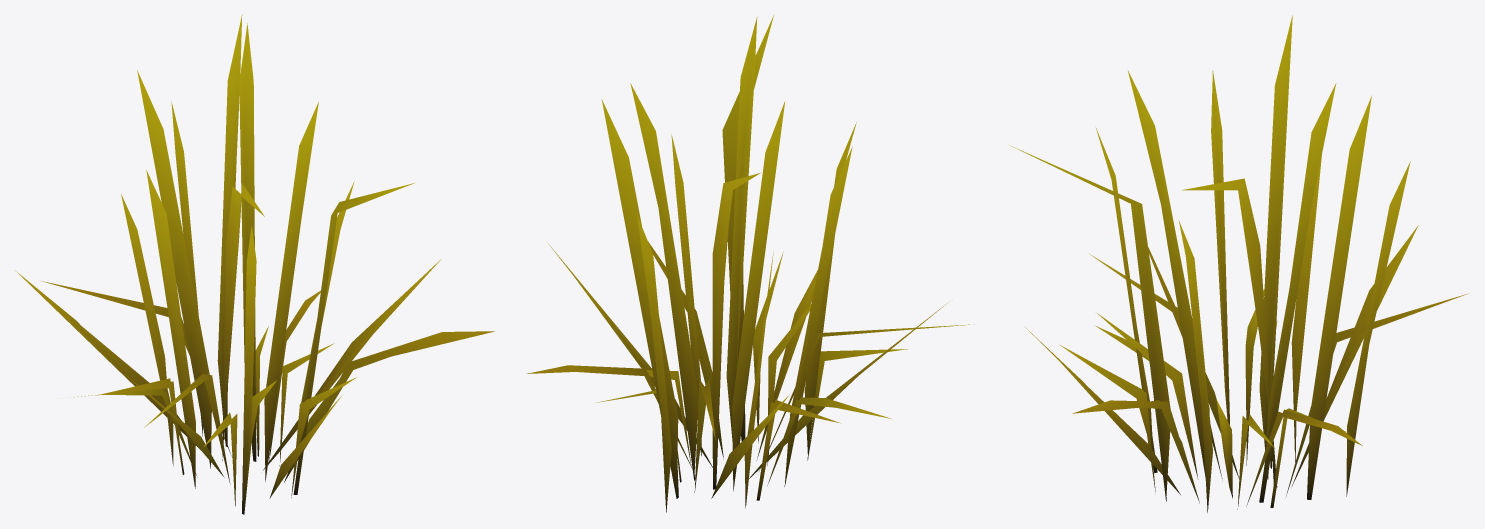
File: Grass_Wispy_Tall.glb
3 renders of one model, left to right at view 1: azimuth 30°, elevation 25°; view 2: azimuth 150°, elevation 25°; view 3: azimuth 270°, elevation 25°, orthographic. The views are drawn at different scales.
Visible parts, largest first — view 1: Grass_Wispy_Tall; view 2: Grass_Wispy_Tall; view 3: Grass_Wispy_Tall.
Part boxes in pixels (x1=…): Grass_Wispy_Tall: x1=15, y1=14, x2=494, y2=514; Grass_Wispy_Tall: x1=526, y1=15, x2=974, y2=512; Grass_Wispy_Tall: x1=1009, y1=15, x2=1468, y2=512.
Bounding box in the file's own units: 1.54 × 1.66 × 1.59.
Materials: 1 (1 with a texture image).
